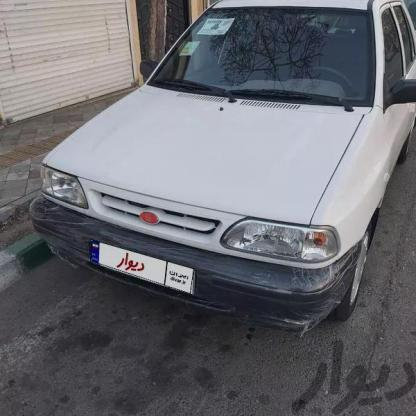Car: (21, 0, 416, 334)
